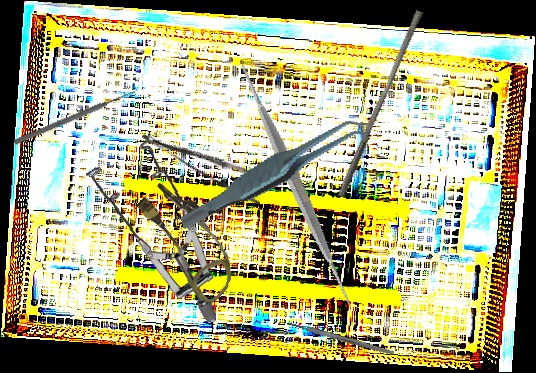Cannula: (124, 174, 254, 307)
Dressing Forceps: (140, 113, 273, 208)
Pusher: (337, 7, 424, 201), (12, 87, 138, 147)
Scalpel Handle: (286, 320, 396, 357)
Spatula Surgical: (161, 51, 430, 318)
Speculum: (78, 137, 226, 322)
Tissue Forceps: (167, 115, 382, 231)
